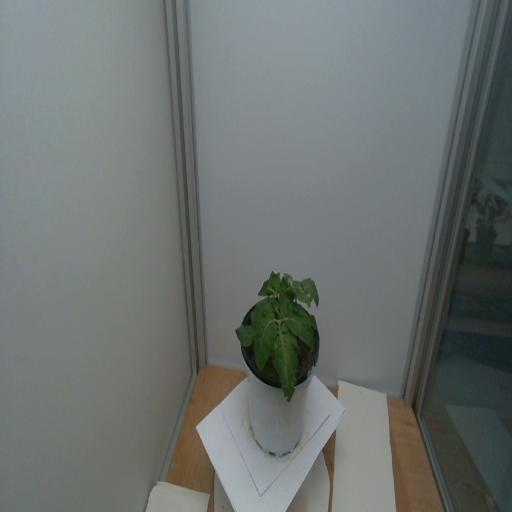Tomato-Leaves-Cupboard-: (270, 331, 301, 402), (248, 316, 278, 371), (285, 314, 317, 350), (302, 275, 323, 307), (250, 298, 278, 316), (234, 322, 254, 346), (289, 280, 310, 302), (266, 265, 282, 292), (256, 277, 272, 300), (280, 293, 294, 317), (304, 312, 318, 328), (283, 272, 293, 288)
